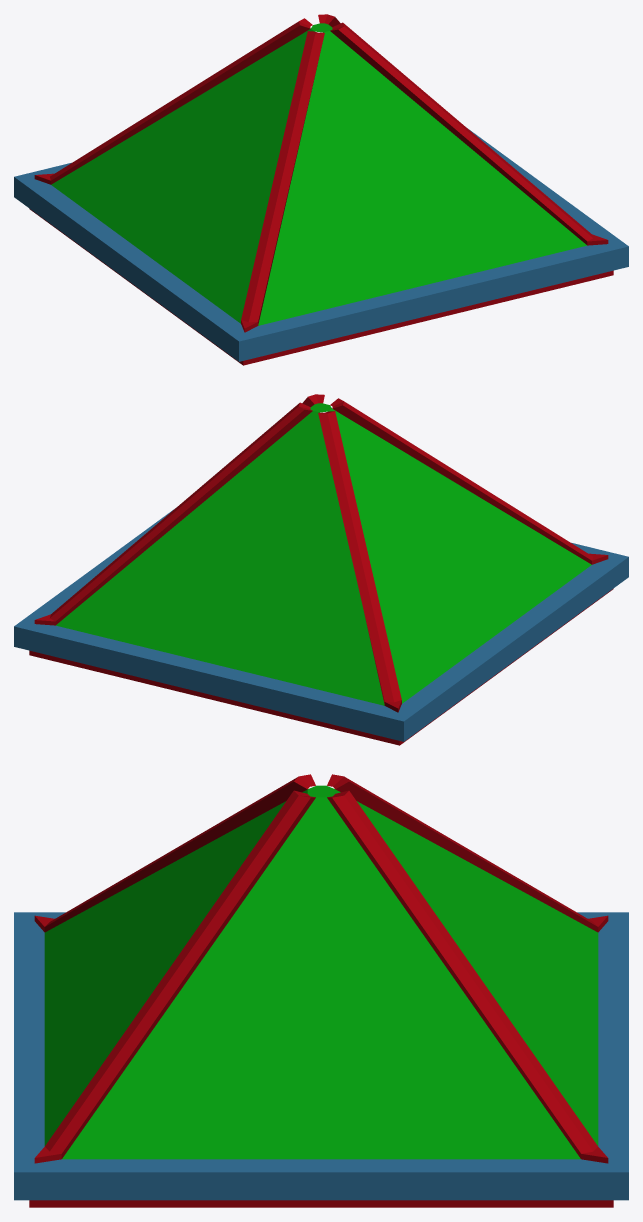
The model's file is ph-roof.glb.
3 views of the same model, one above another, from view 1: azimuth 30°, elevation 25°; view 2: azimuth 150°, elevation 25°; view 3: azimuth 270°, elevation 25° (orthographic). The views are drawn at different scales.
Bounding box in the file's own units: 20 × 10.7 × 20.
